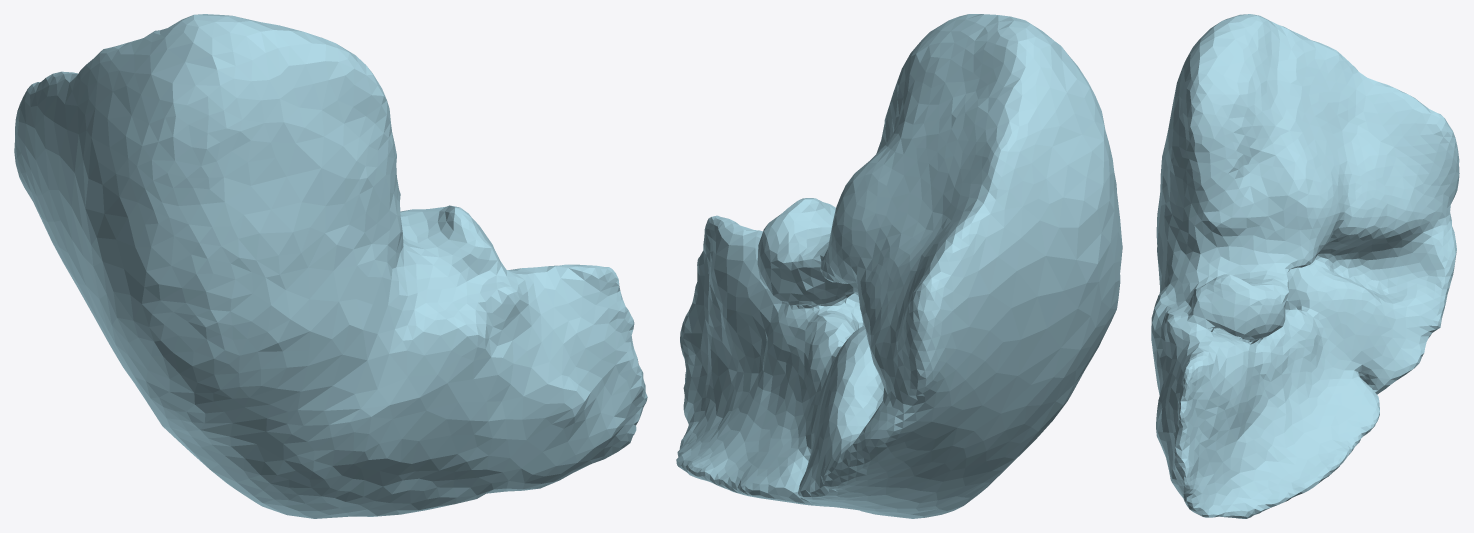
File: liver.obj
3 views of the same model, side by side, from view 1: azimuth 30°, elevation 25°; view 2: azimuth 150°, elevation 25°; view 3: azimuth 270°, elevation 25° (orthographic). The views are drawn at different scales.
Visible parts, largest first — view 1: grp1; view 2: grp1; view 3: grp1.
Part boxes in pixels (x1,y1,x2,y2): grp1: (14, 14, 647, 518); grp1: (676, 14, 1122, 518); grp1: (1151, 14, 1459, 518).
Size of the model in its own units: 180 by 183 by 134.
